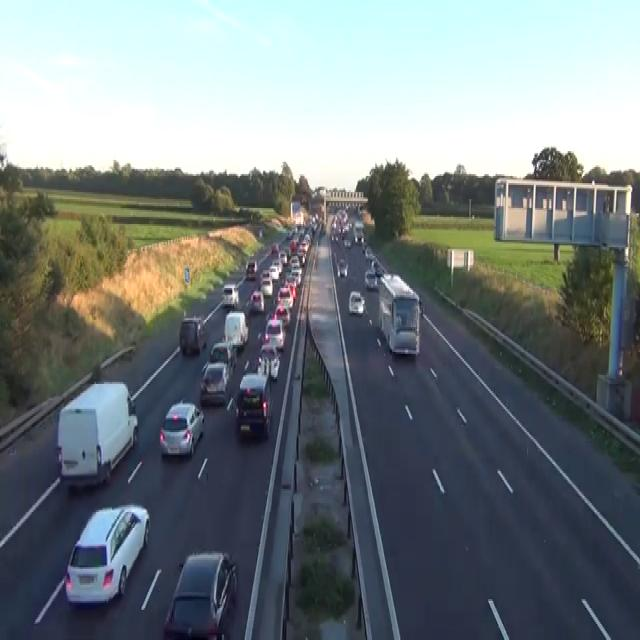Car: (64, 503, 150, 606), (162, 550, 237, 638), (232, 372, 272, 439), (159, 398, 204, 457), (199, 361, 229, 405), (179, 314, 207, 356), (209, 339, 236, 374), (257, 343, 280, 381), (264, 316, 285, 351), (221, 282, 239, 308), (348, 290, 365, 314), (259, 270, 273, 297), (274, 304, 290, 327), (277, 286, 293, 308), (249, 290, 264, 311), (225, 340, 237, 366), (364, 268, 378, 290), (284, 275, 296, 297), (370, 258, 384, 276), (245, 260, 257, 279), (290, 267, 302, 286), (337, 258, 348, 277), (271, 258, 282, 274), (268, 265, 279, 281), (416, 292, 423, 314), (278, 249, 287, 265), (289, 254, 300, 267), (260, 268, 270, 281), (374, 263, 384, 276), (370, 256, 379, 270), (365, 245, 373, 258), (286, 228, 296, 238), (354, 233, 364, 243), (271, 242, 279, 254), (343, 237, 351, 247), (361, 237, 367, 250), (300, 194, 307, 204), (331, 233, 338, 242), (258, 228, 262, 238)
Truck: (55, 381, 138, 487), (377, 272, 422, 356), (224, 311, 248, 349)
